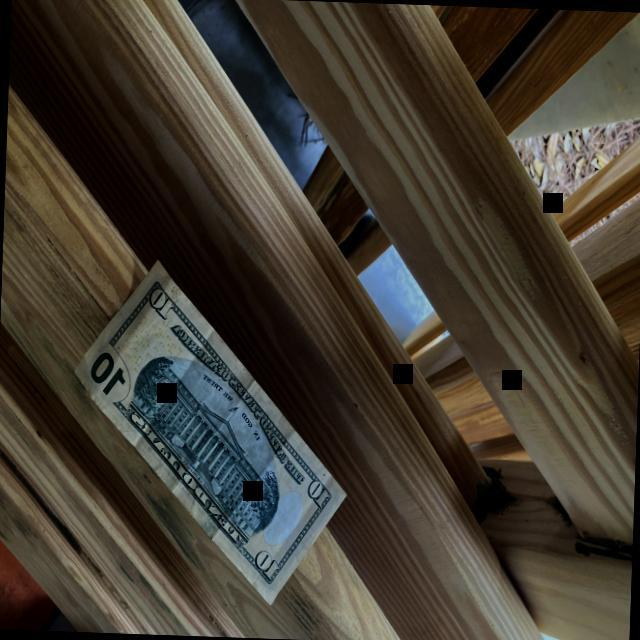ten: (70, 253, 347, 605)
